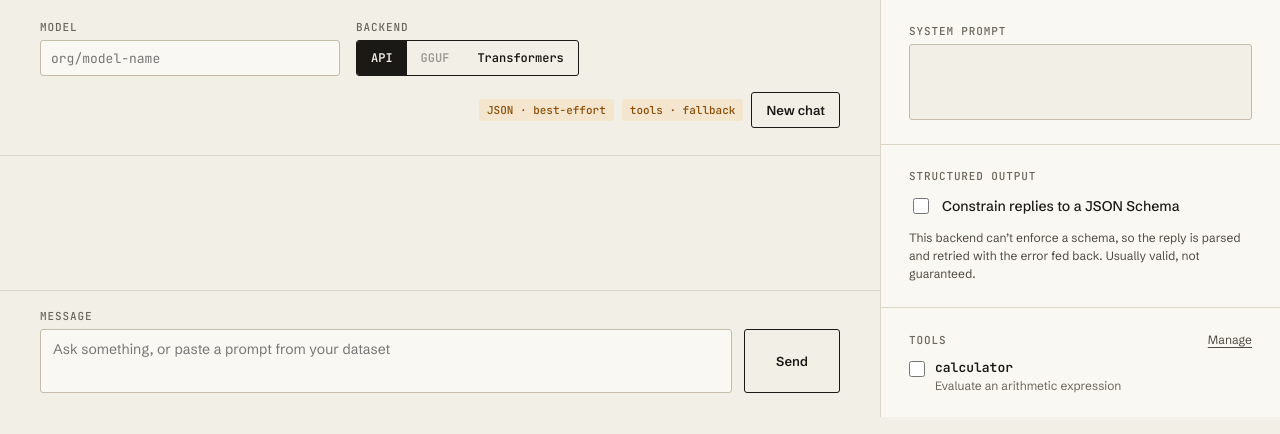
Scenario: PlaygroundPage › labels capabilities from GET /backends and blocks picking a backend not installed here
expect the text "JSON · best-effort" is shown: met, box [479,99,614,121]
expect the text "tools · fallback" is shown: met, box [622,99,743,121]
What coordinates should you click on to do the following:
click the button "Transformers"
I would click on:
 (521, 58)
Its box is [463,41,578,75].
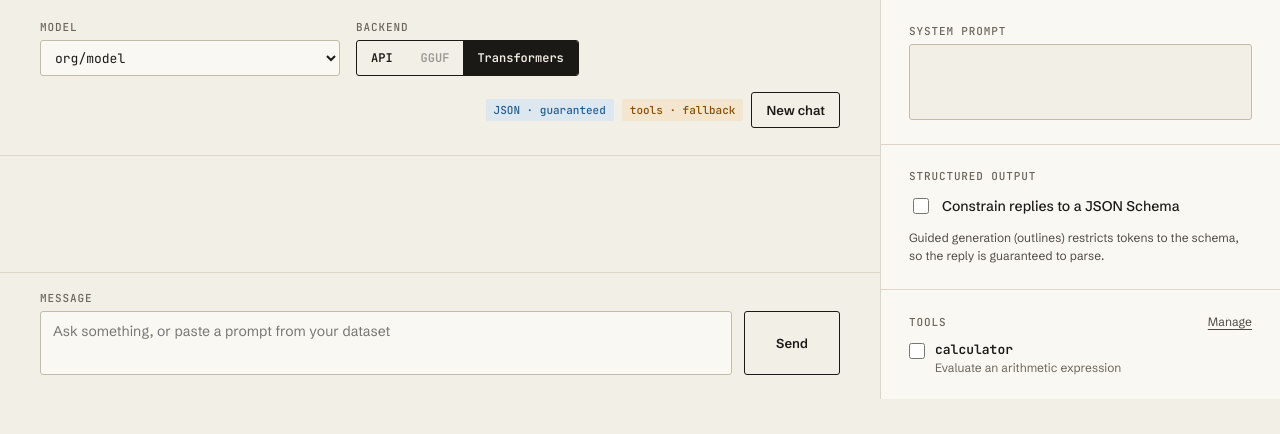
expect the text "JSON · guaranteed" is shown: met, box [486,99,614,121]
expect the text "Guided generation (outlines)" is shown: met, box [909,230,1239,263]
